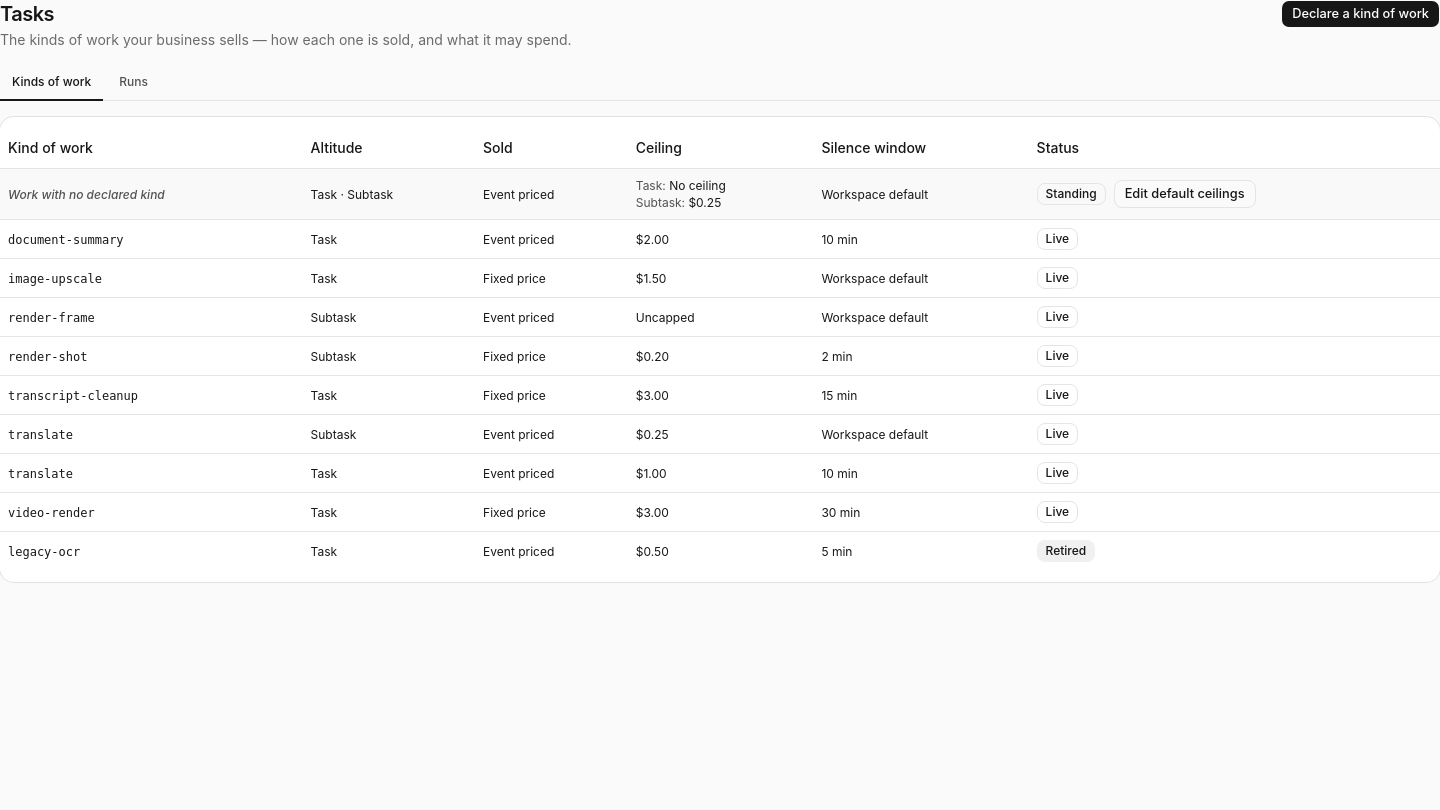
Test: TasksPage › edits the workspace's default ceilings from the standing row, at both altitudes
Expected: the link "video-render" is shown, [8, 506, 95, 520]
Click the button "Edit default ceilings" at (1185, 194), box [1114, 180, 1256, 208]
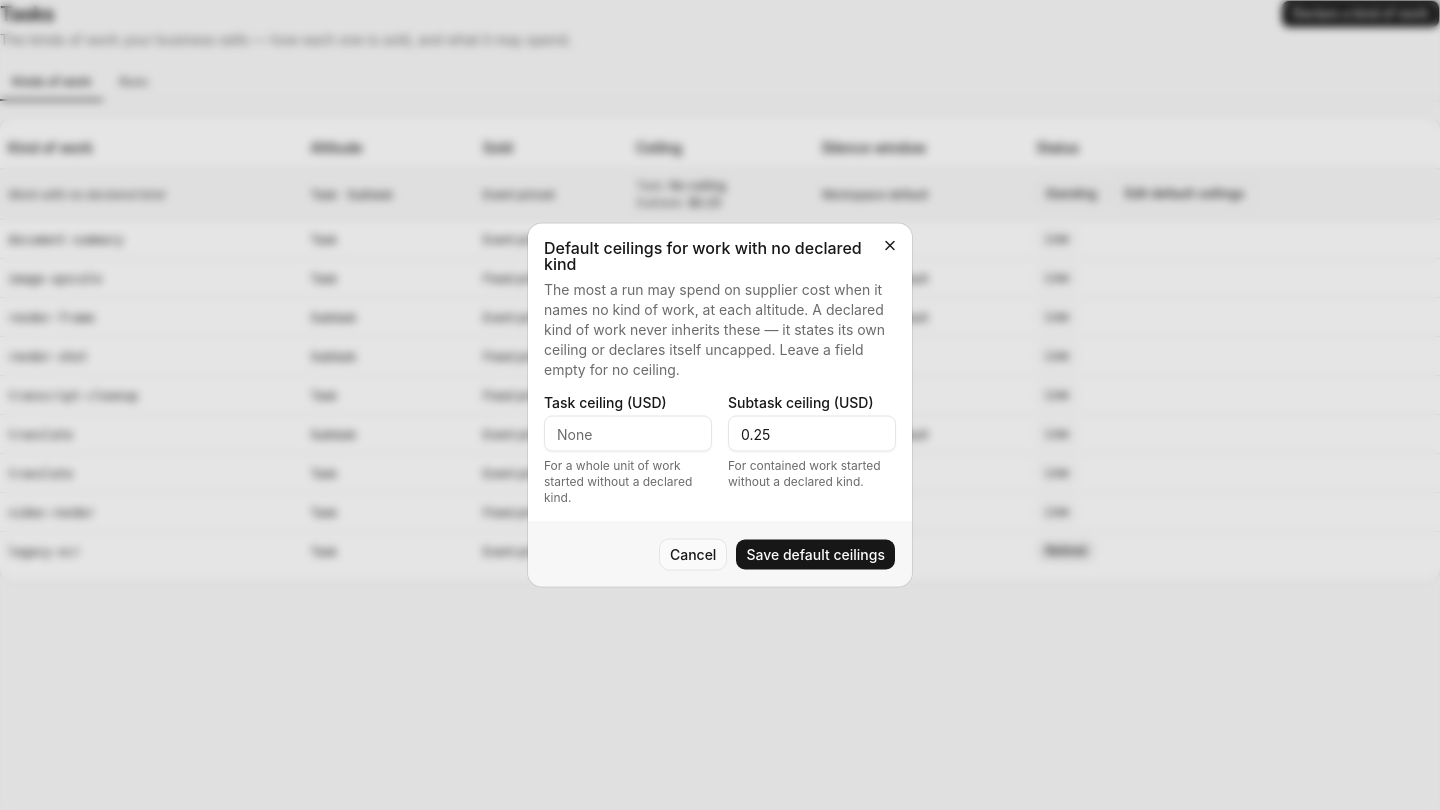
Type "9" into the field labelled "Task ceiling (USD)" at (628, 434), box [544, 416, 712, 452]
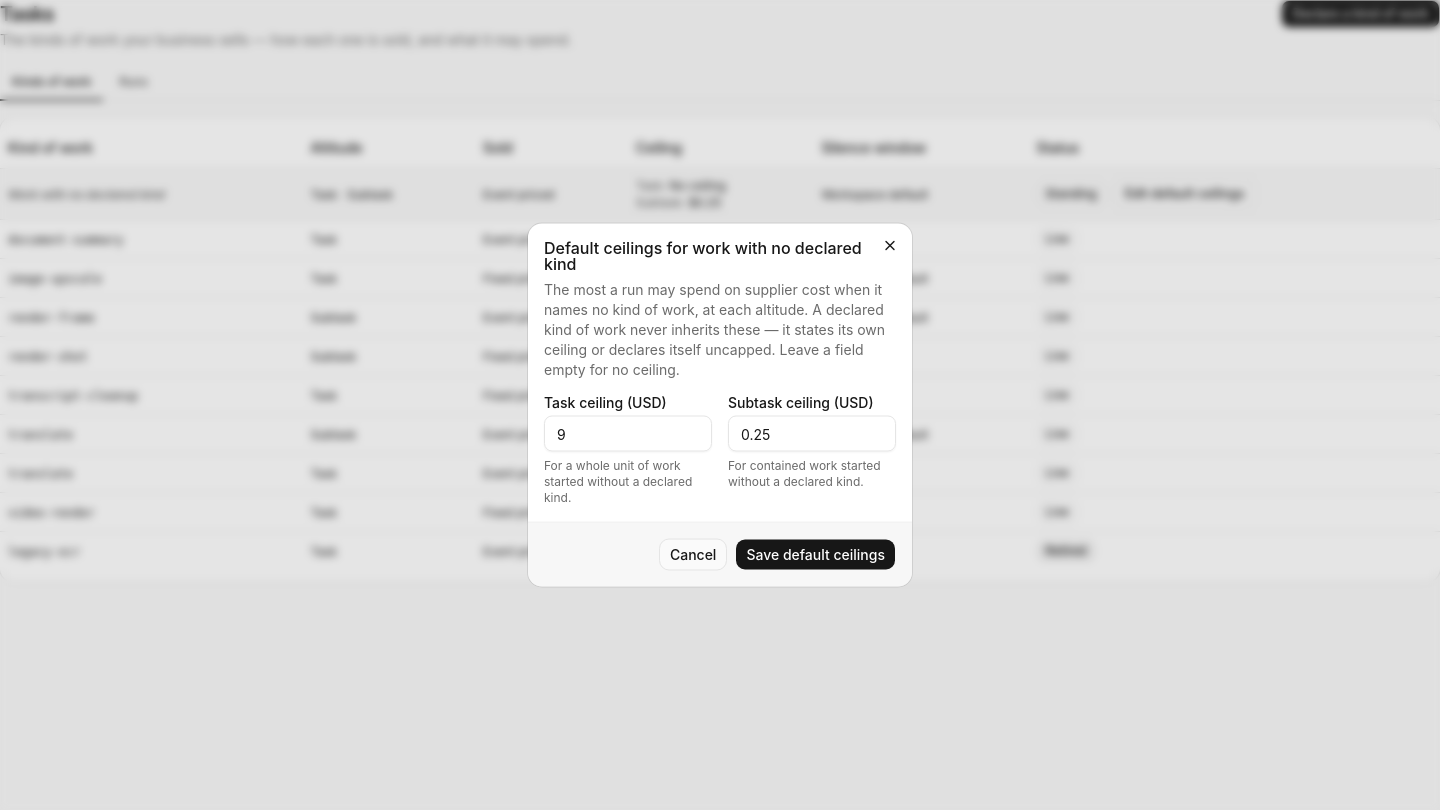
Clear the field labelled "Subtask ceiling (USD)" at (812, 434), box [728, 416, 896, 452]
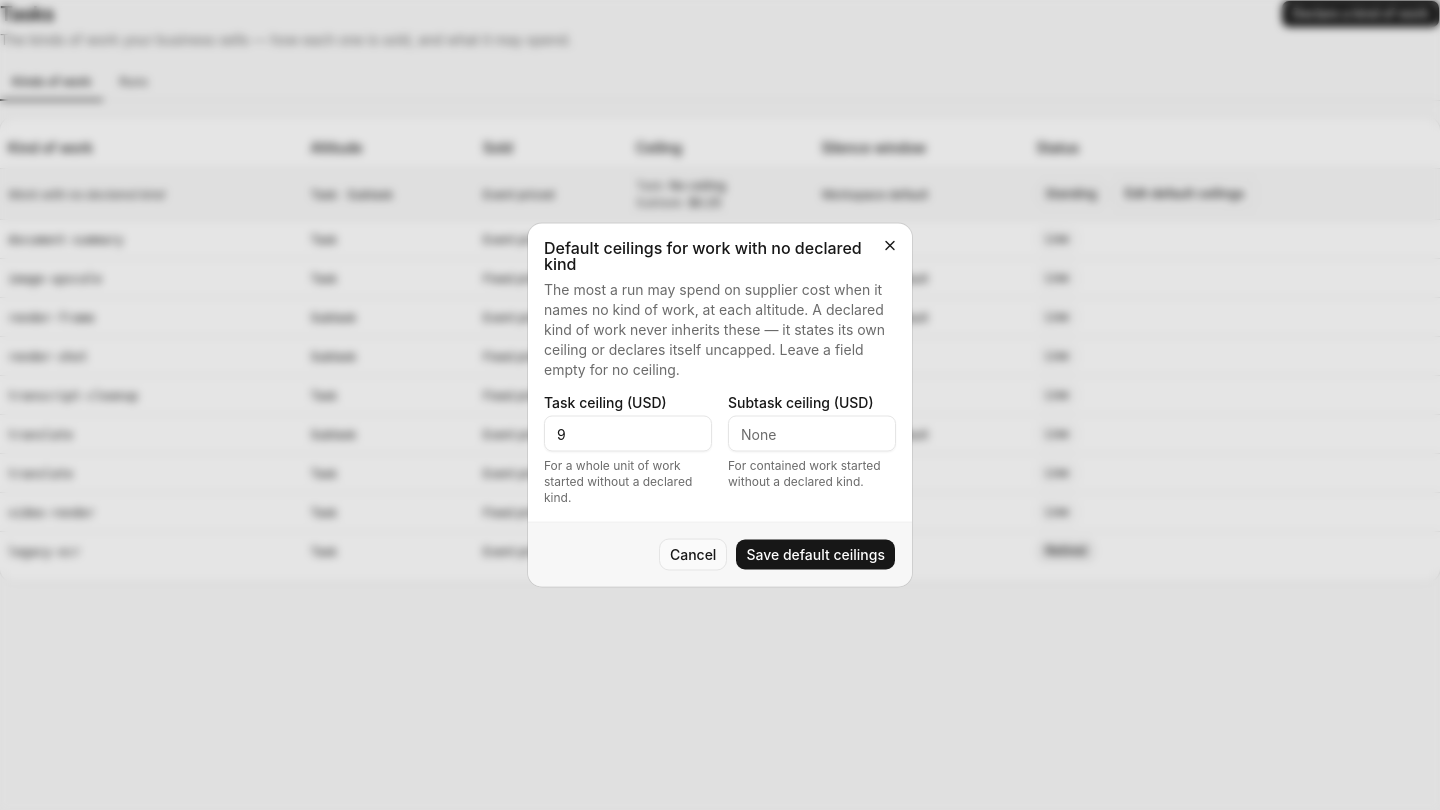
Click the button "Save default ceilings" at (816, 554), box [735, 538, 896, 570]
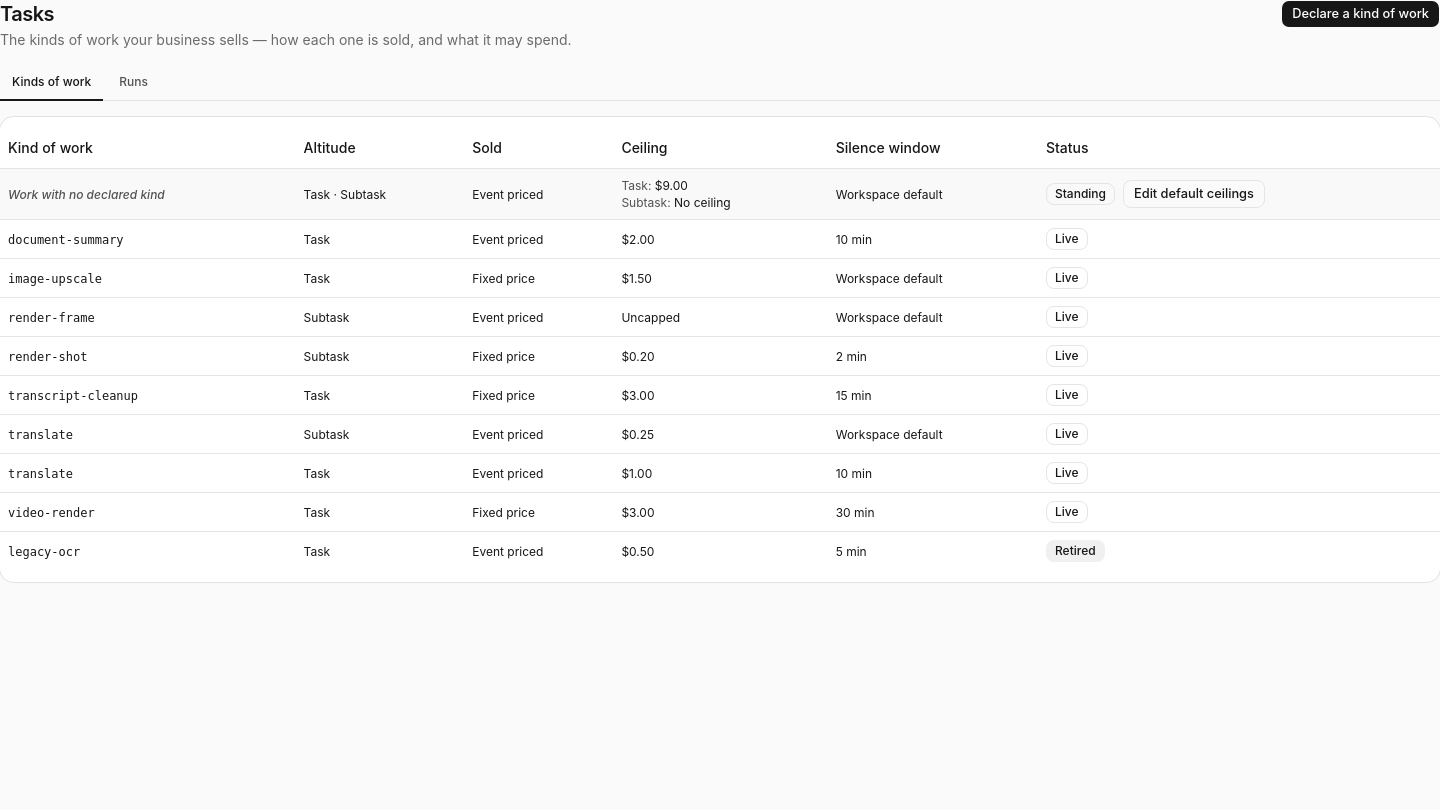
Expected: the dialog is gone
Expected: the text "$9.00" is shown, [655, 178, 688, 193]
Expected: the text "No ceiling" is shown, [674, 195, 731, 210]
